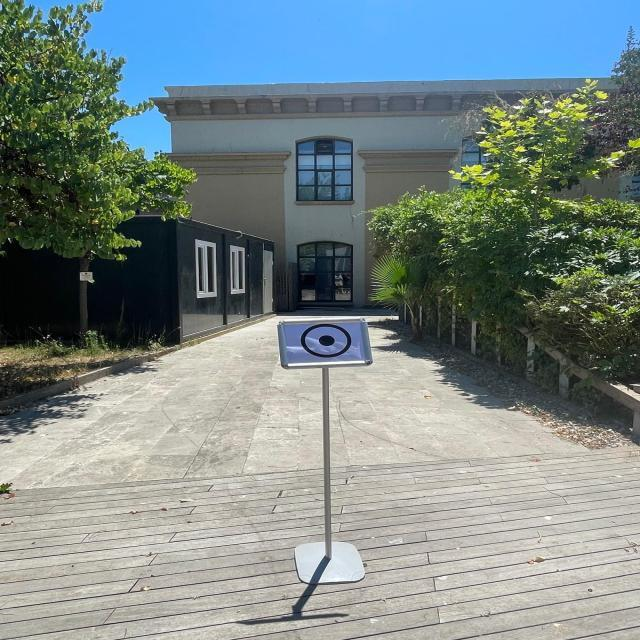Target: (270, 312, 386, 374)
inner: (316, 334, 338, 349)
